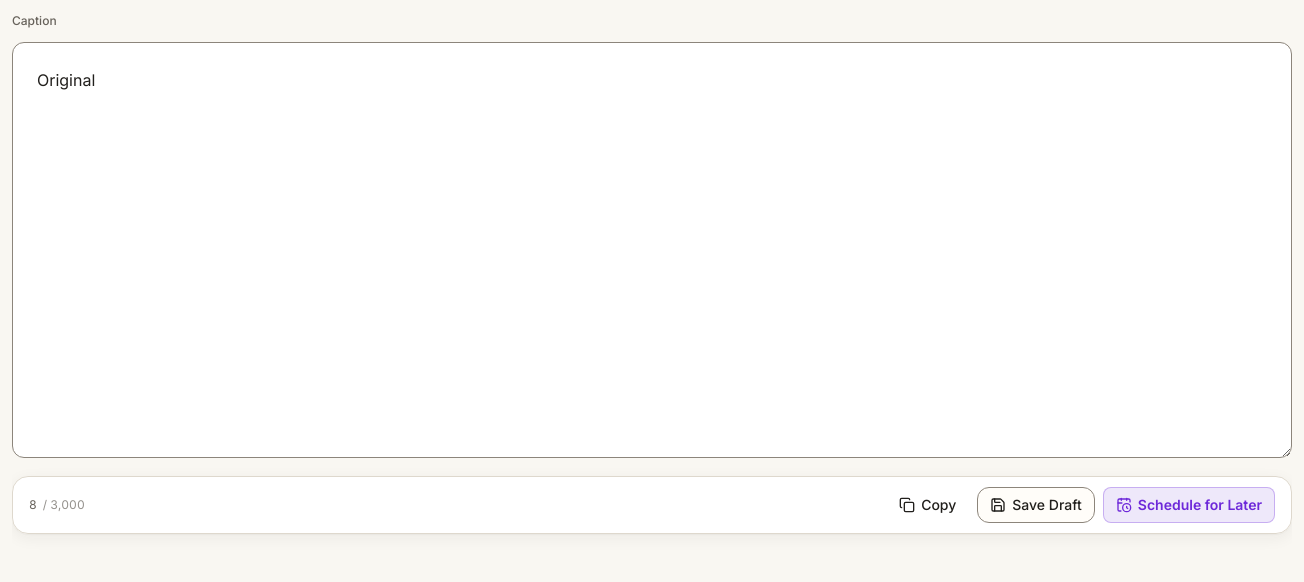
Scenario: caption save feedback › shows save failures as alerts and allows retry with the same text
Click the button "Save Draft" at (1036, 505), box [977,487,1095,523]
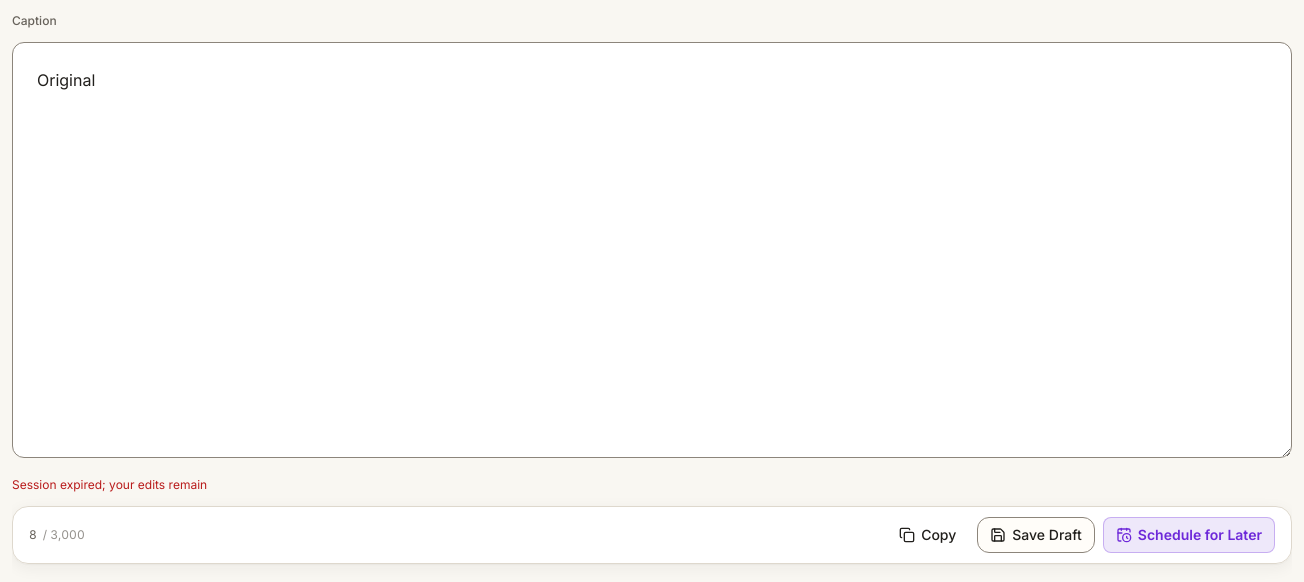
Result: the message shows "Session expired" at [12,477,207,492]
Click the button "Save Draft" at (1036, 535), box [977,517,1095,553]
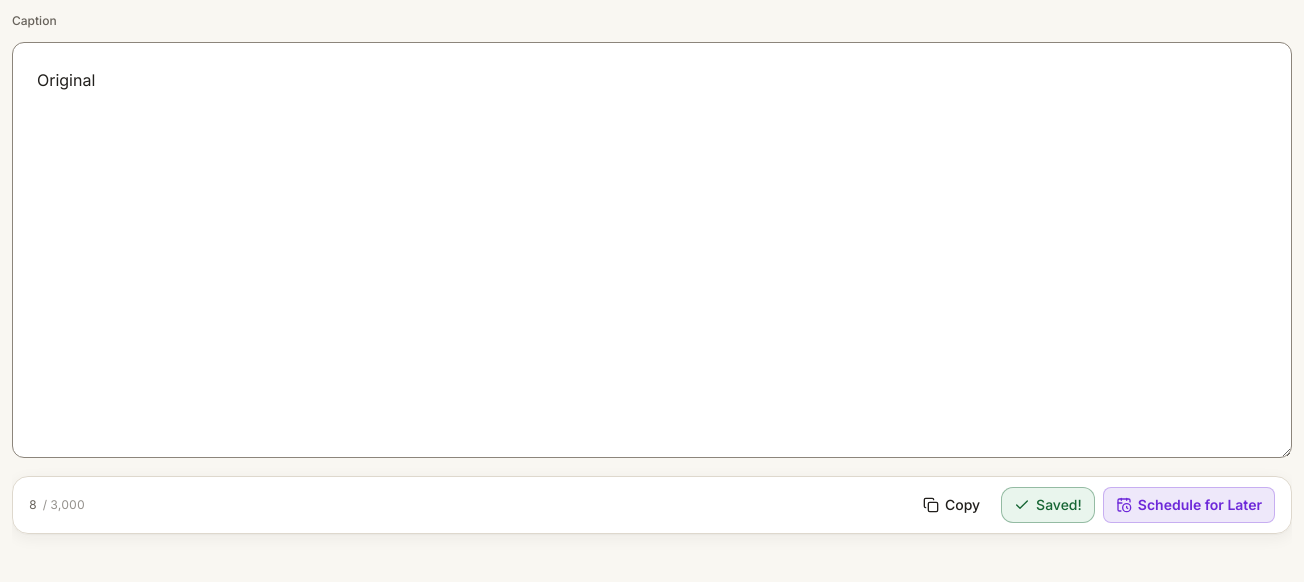
Result: the button "Saved!" is shown at [1001,487,1095,523]
